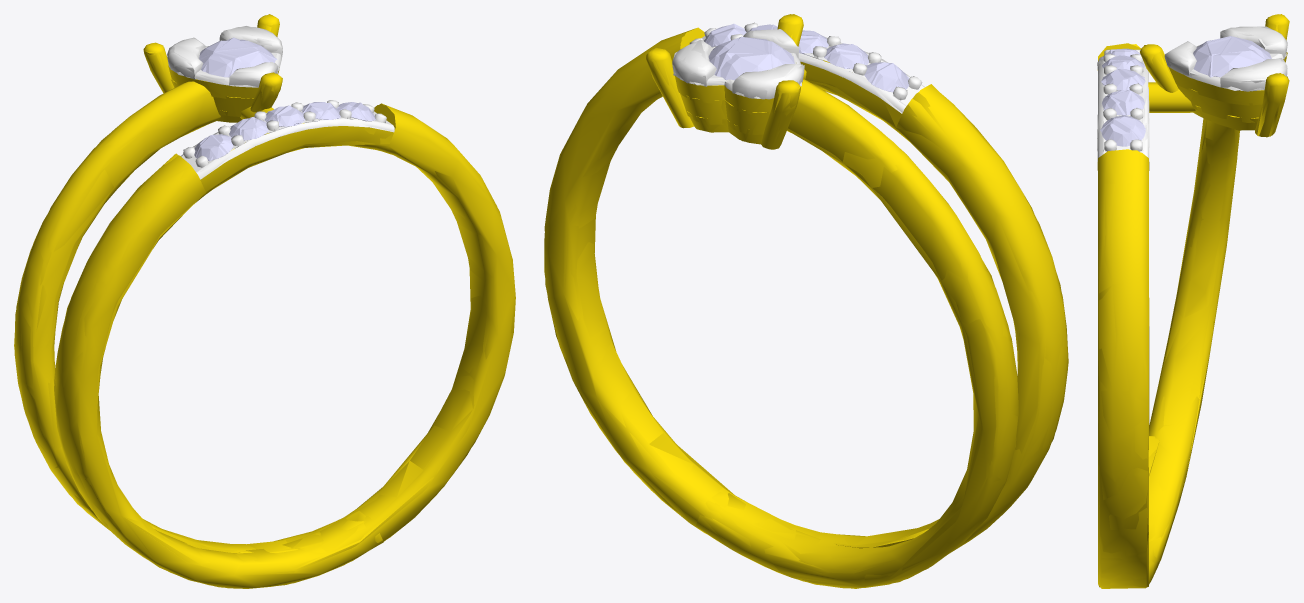
Rendered from DLR-D000736713.glb.
3 views of the same model, side by side, from view 1: azimuth 30°, elevation 25°; view 2: azimuth 150°, elevation 25°; view 3: azimuth 270°, elevation 25° (orthographic). The views are drawn at different scales.
Visible parts, largest first — view 1: highPolyMesh, lowPolyMesh; view 2: highPolyMesh, lowPolyMesh; view 3: highPolyMesh, lowPolyMesh.
Part boxes in pixels (box(x1,y1,x2,y2)): highPolyMesh: box(14, 14, 515, 588); lowPolyMesh: box(14, 14, 515, 587); highPolyMesh: box(544, 14, 1067, 588); lowPolyMesh: box(544, 14, 1068, 588); highPolyMesh: box(1097, 14, 1288, 588); lowPolyMesh: box(1097, 14, 1289, 588).
Size of the model in its own units: 0.0192 by 0.02 by 0.00675.
